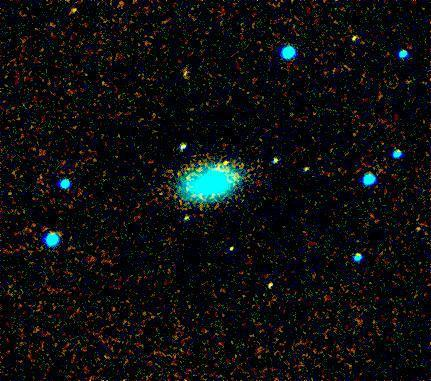star: (215, 145, 245, 175)
